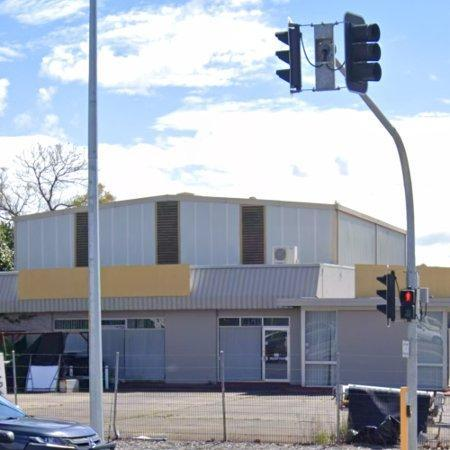traffic lights: (346, 17, 384, 102), (276, 21, 303, 94), (372, 269, 399, 323), (398, 285, 421, 323)
